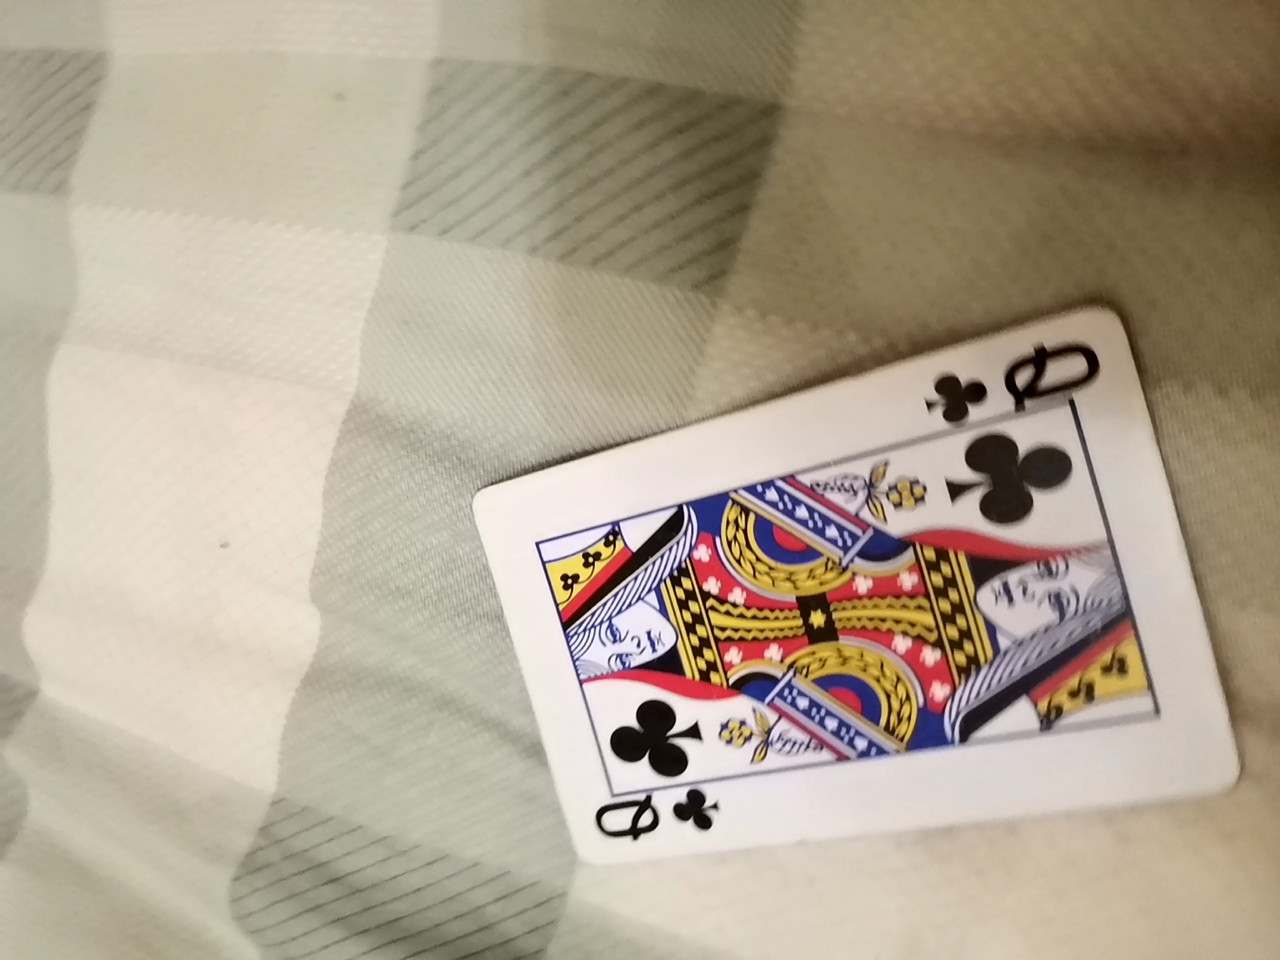mh q: (467, 314, 1243, 890)
